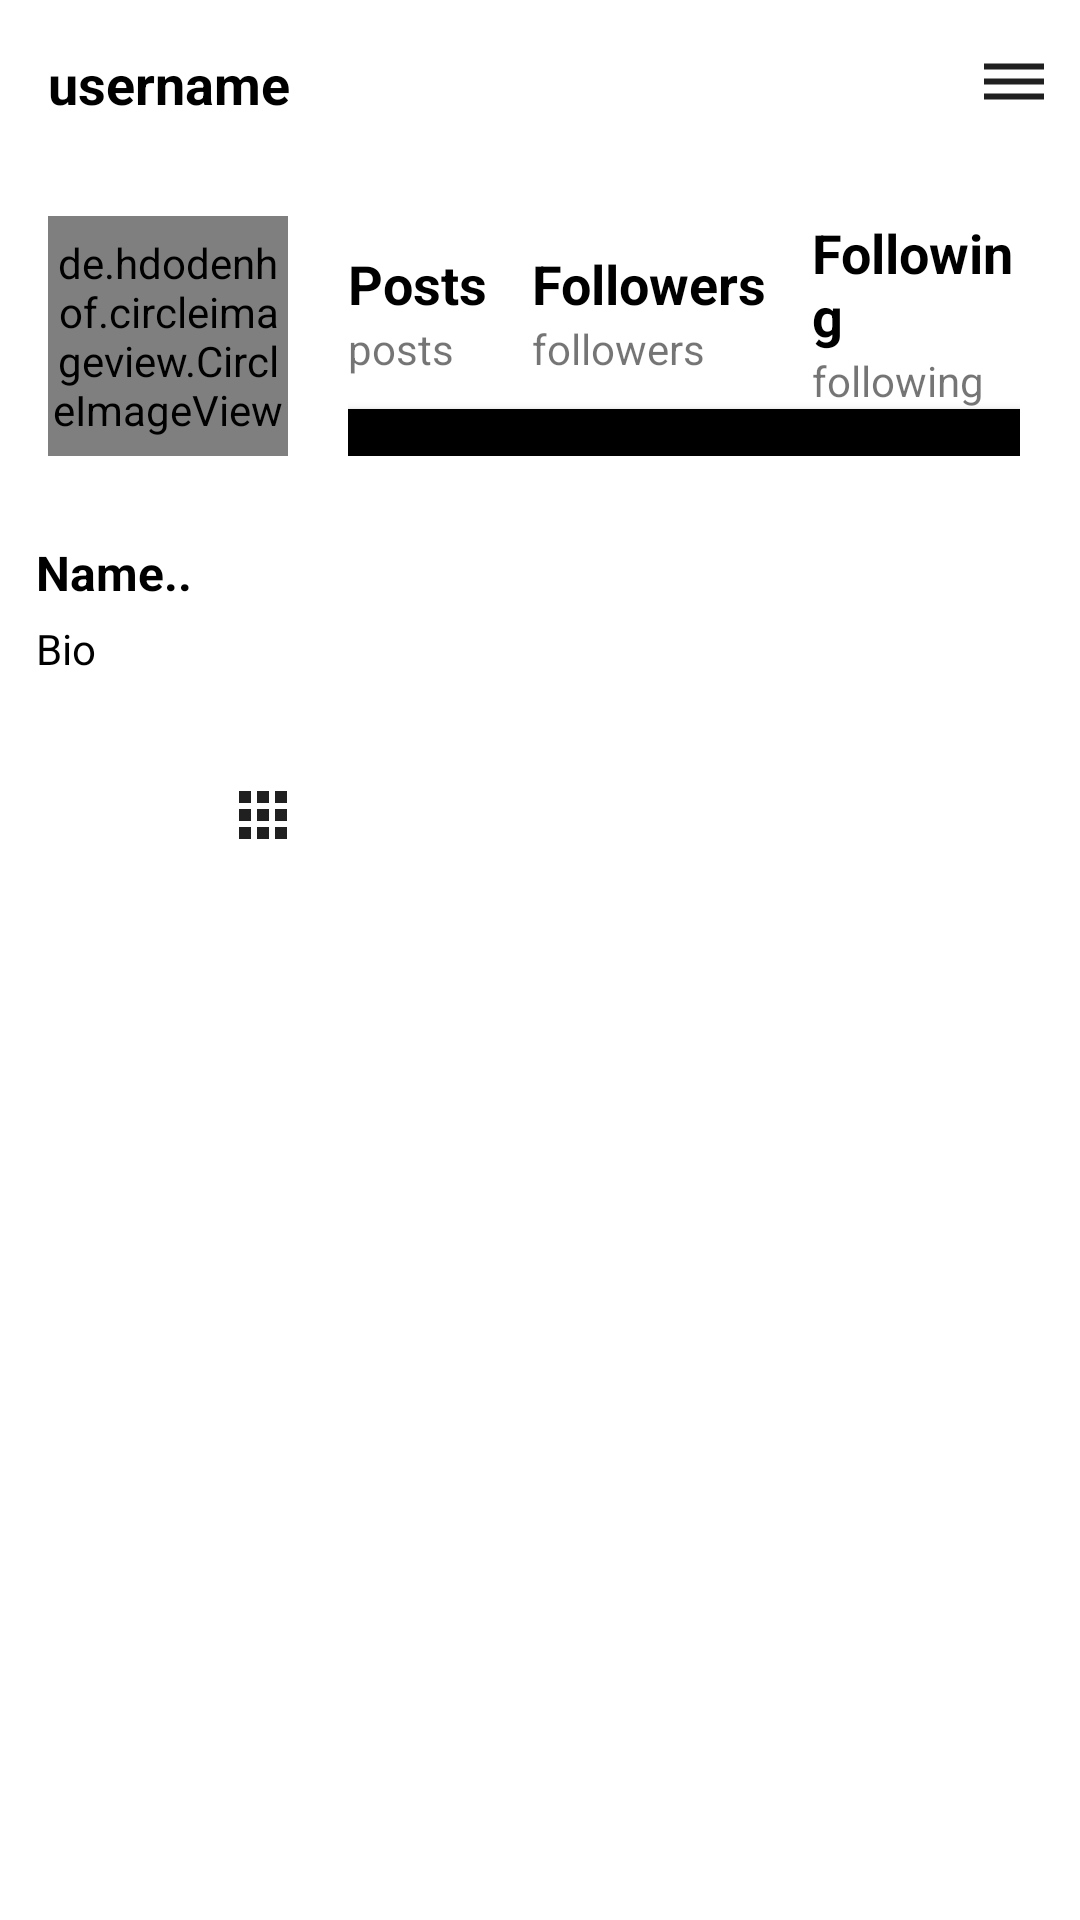

Screen size 1080 × 1920. Icon name, then its center in pixels as [x,y]:
grid: [263,815]
options: [1014,81]
